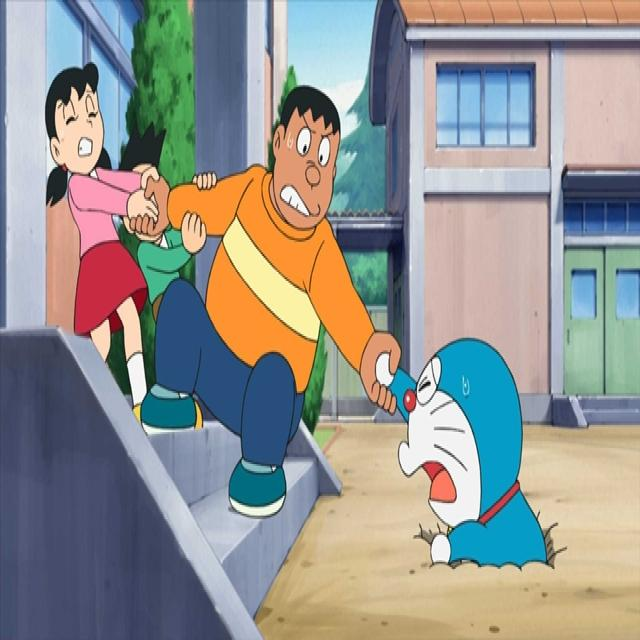doraemon: (395, 332, 531, 542)
jaian: (267, 82, 337, 240)
shizuka: (38, 59, 116, 208)
